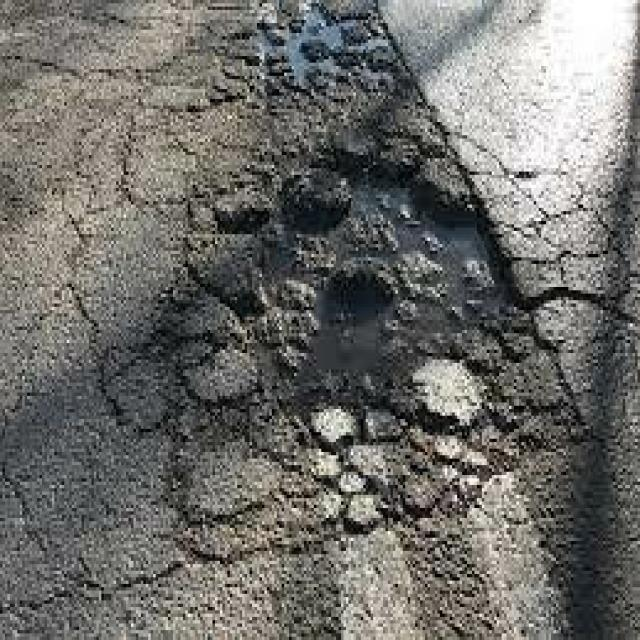Buraco: (203, 140, 602, 444), (221, 0, 407, 97)
